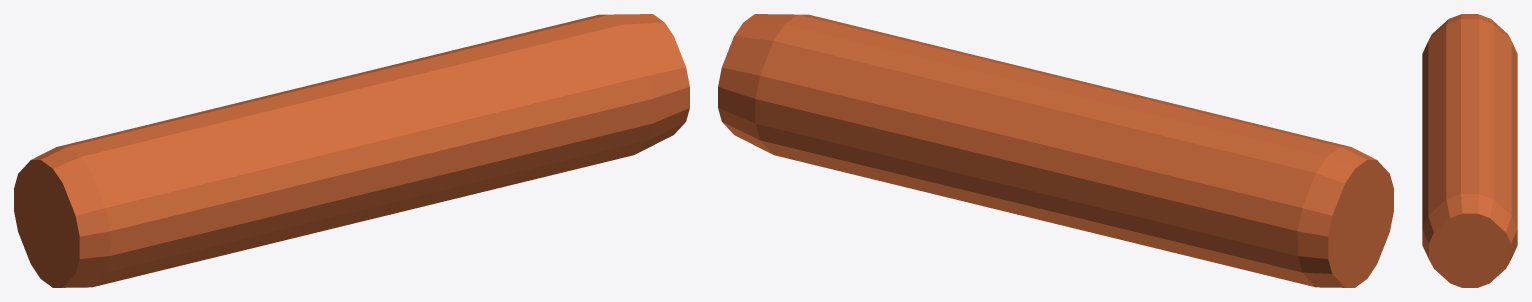
Rendered from sruseno_drvo.fbx.
3 views of the same model, side by side, from view 1: azimuth 30°, elevation 25°; view 2: azimuth 150°, elevation 25°; view 3: azimuth 270°, elevation 25° (orthographic). The views are drawn at different scales.
Parts seen in each view (by area): view 1: Cube; view 2: Cube; view 3: Cube.
Boxes of the visible parts, left/top/right/bottom form: Cube: left=14, top=14, right=689, bottom=287; Cube: left=718, top=14, right=1393, bottom=287; Cube: left=1422, top=14, right=1517, bottom=287.
Size of the model in its own units: 979 by 200 by 200.
